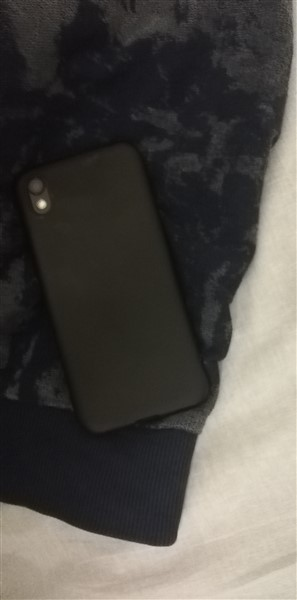telefon: (13, 138, 219, 441)
